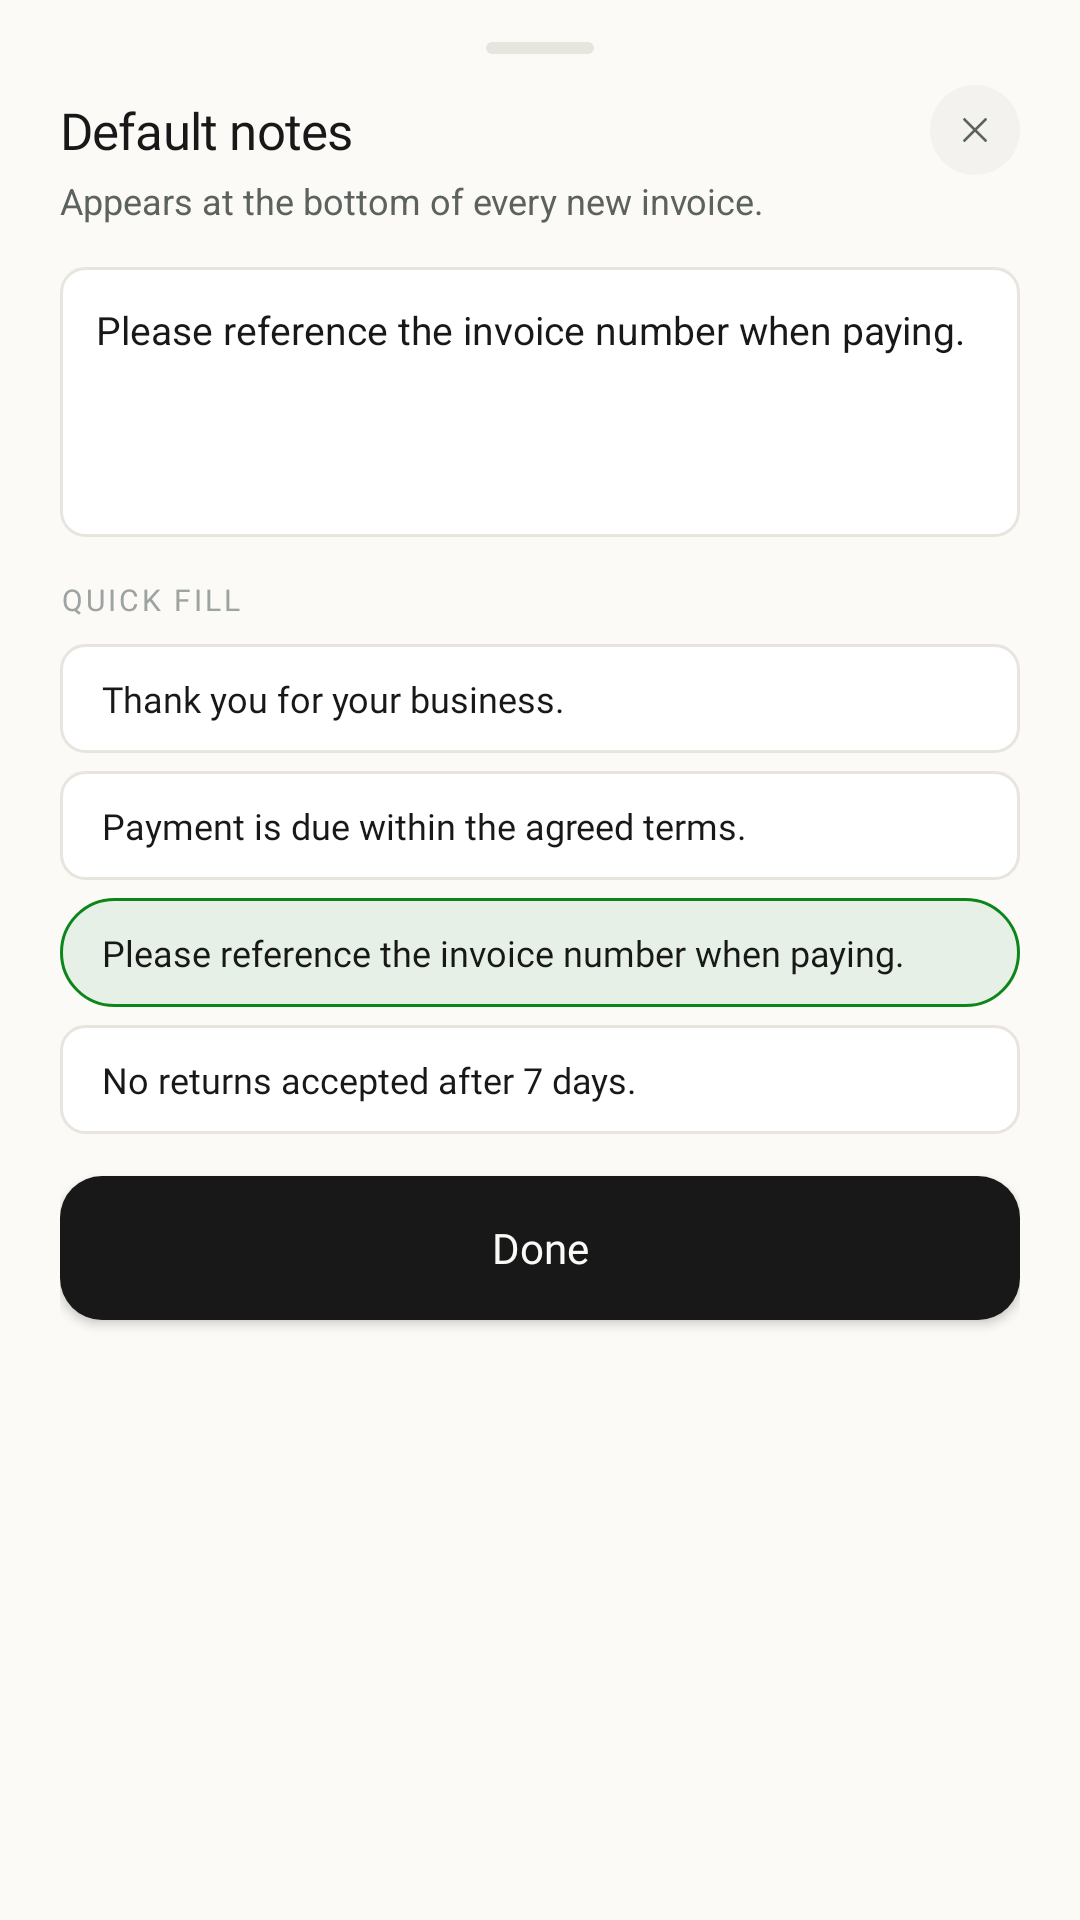

Named icons in this screenshot (1080*1920) and their bounding boxes, (x1, y1, x2, y2):
close: (930, 85, 1020, 175)
